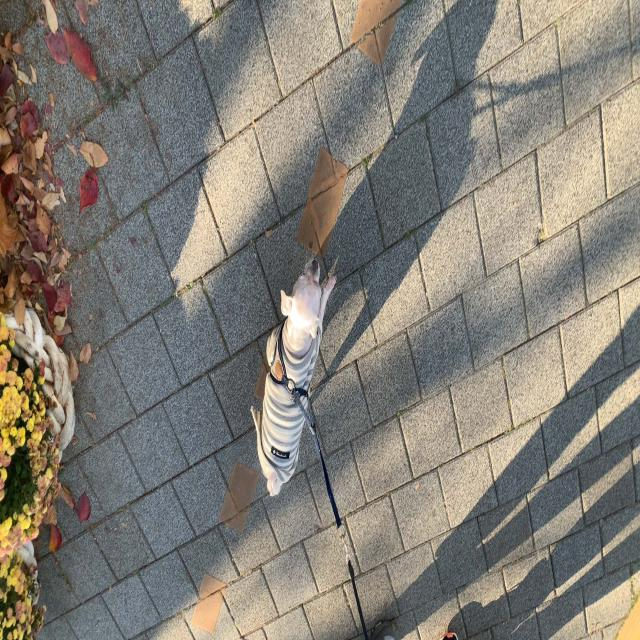Dog: (303, 142, 390, 384)
